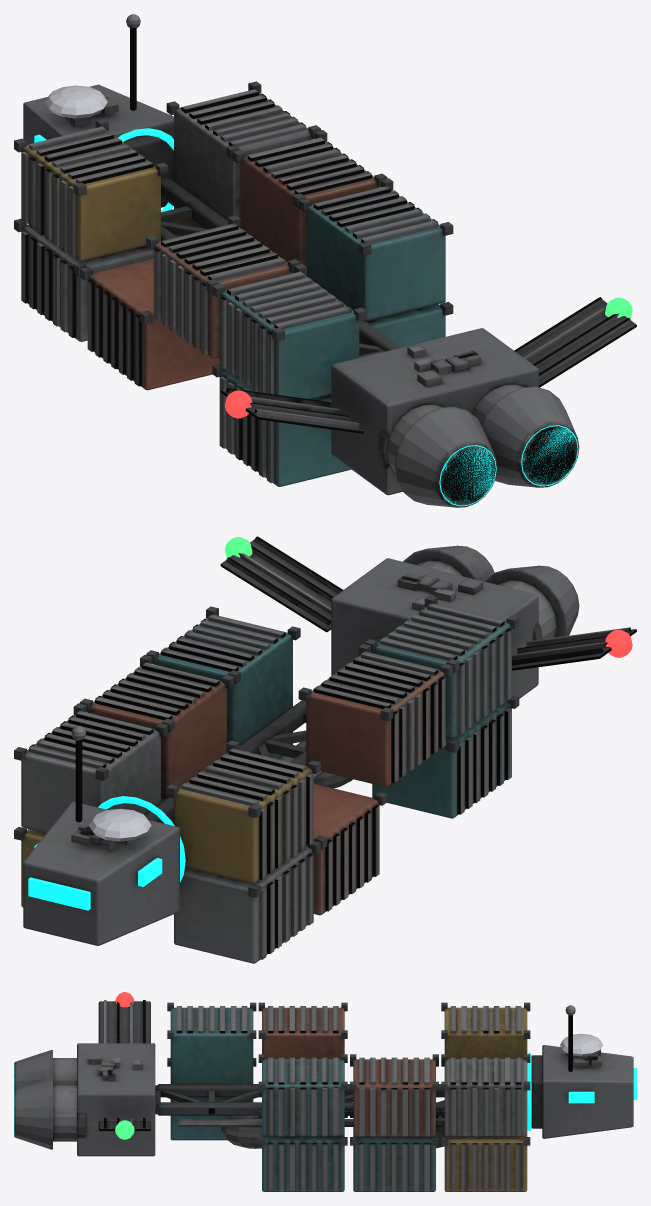
File: cargo_ship.glb
3 renders of one model, top to bottom at view 1: azimuth 30°, elevation 25°; view 2: azimuth 150°, elevation 25°; view 3: azimuth 270°, elevation 25°, orthographic. The views are drawn at different scales.
Visible parts, largest first — view 1: CargoShip, RadarDish; view 2: CargoShip, RadarDish; view 3: CargoShip, RadarDish.
Part boxes in pixels (bbox=[...]): CargoShip: bbox=[14, 14, 636, 507]; RadarDish: bbox=[45, 85, 107, 118]; CargoShip: bbox=[14, 536, 636, 963]; RadarDish: bbox=[88, 808, 151, 841]; CargoShip: bbox=[14, 992, 636, 1191]; RadarDish: bbox=[560, 1033, 602, 1056].
Bounding box in the file's own units: 1.48 × 0.7951 × 2.87.
Materials: 6 (1 with a texture image).
